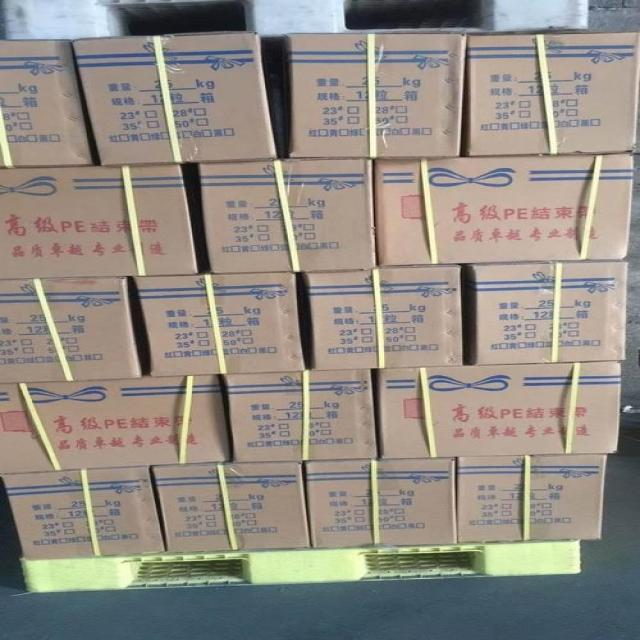box: (374, 155, 634, 268), (70, 31, 279, 166), (378, 362, 621, 459), (288, 28, 466, 158), (0, 165, 198, 279), (0, 376, 229, 474), (466, 28, 640, 156), (200, 160, 375, 273), (134, 272, 305, 378), (466, 261, 630, 366), (306, 268, 462, 371), (0, 278, 141, 384), (150, 462, 312, 554), (1, 468, 164, 559), (223, 371, 376, 462), (305, 459, 456, 548), (457, 455, 604, 543), (0, 38, 97, 168)
